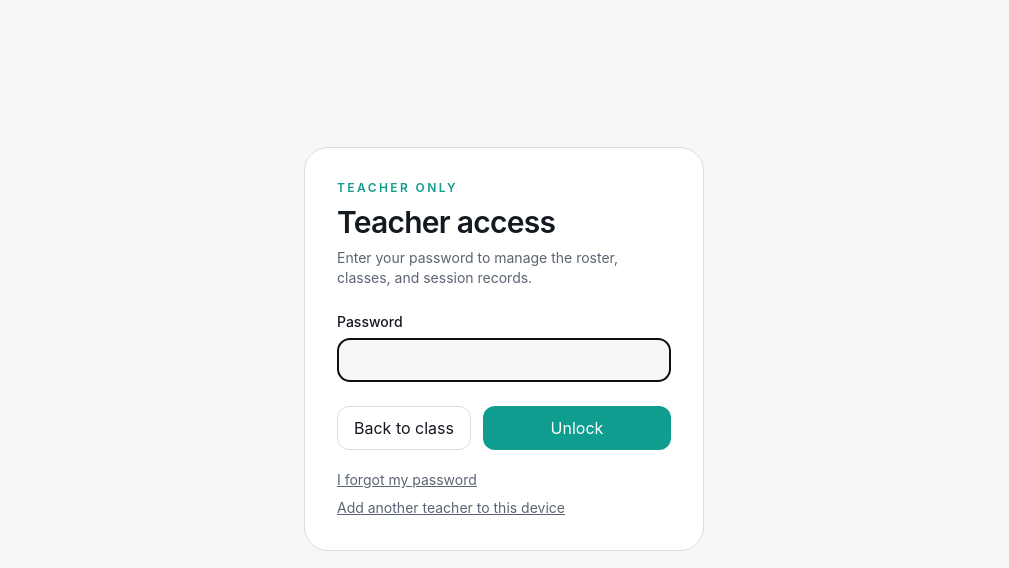
teacher gate › opens the roster with the right password and can lock again
Type "Bio Room 214!" into the password field labelled "Password" at (504, 360), box [337,338,671,382]
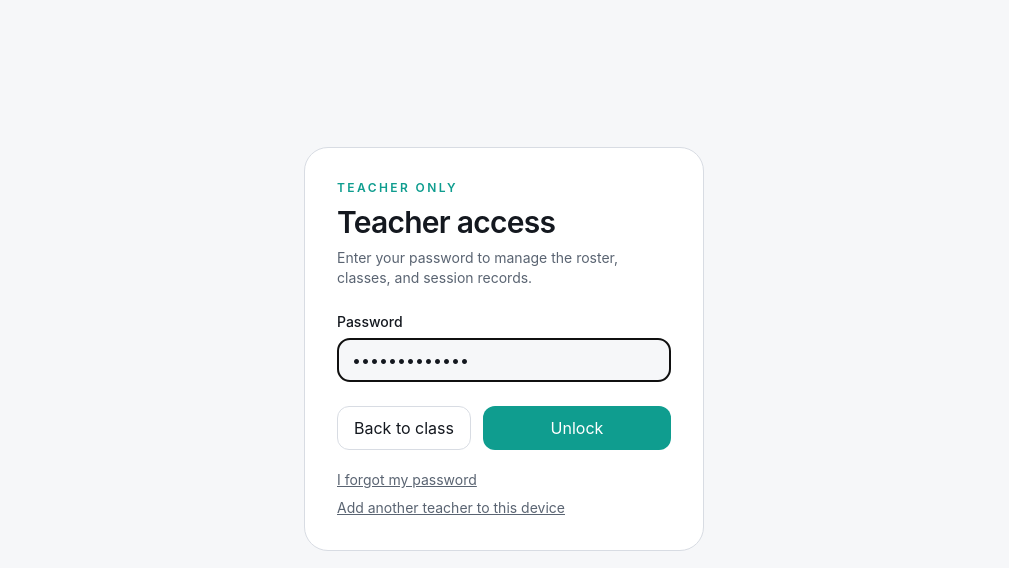
Click the button "Unlock" at (577, 428), box [483,406,671,450]
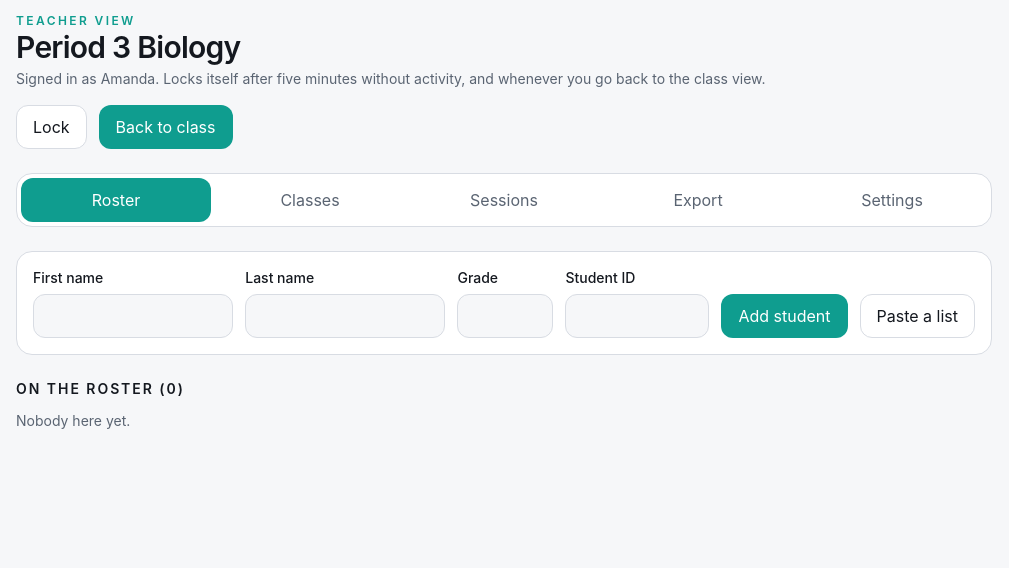
Expected: the heading "Period 3 Biology" is shown, [16,29,240,65]
Expected: the button "Add student" is shown, [721,294,848,338]
Click the button "Lock" at (51, 127), box [16,105,87,149]
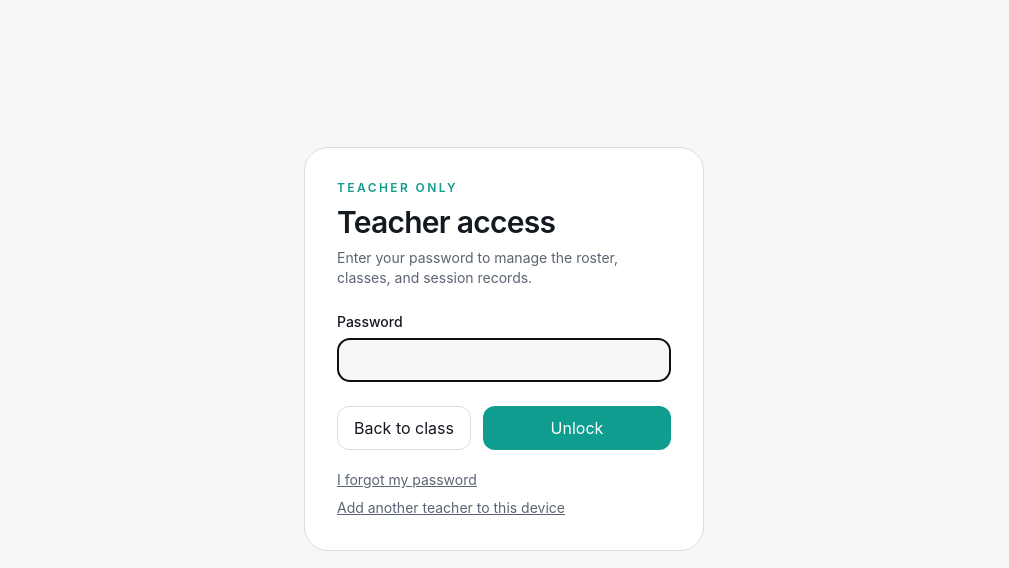
Expected: the heading "Teacher access" is shown, [337,204,555,240]
